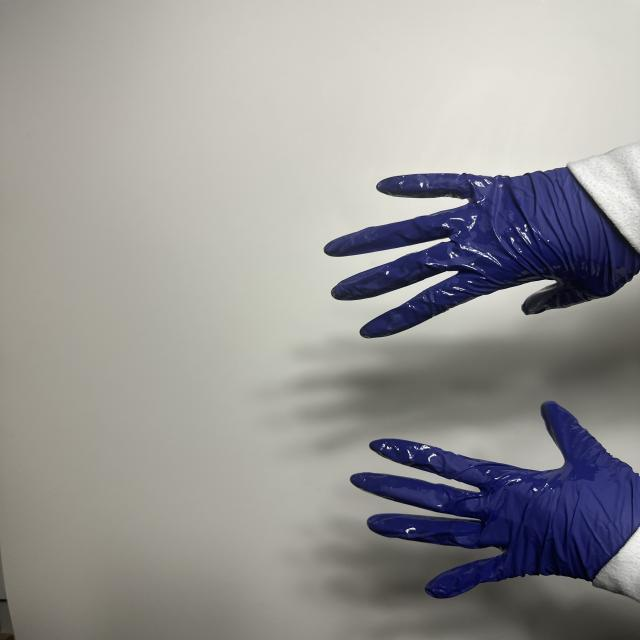gloves_contaminated: (350, 402, 640, 598), (325, 169, 640, 337)
